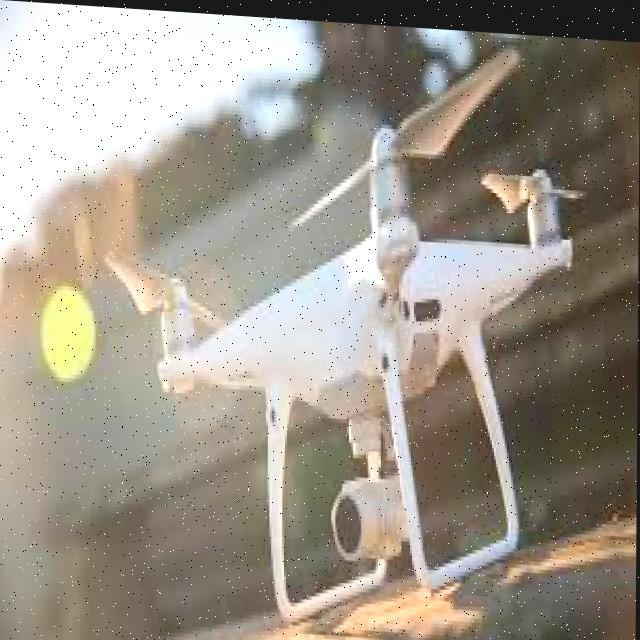drone: (98, 5, 594, 640)
